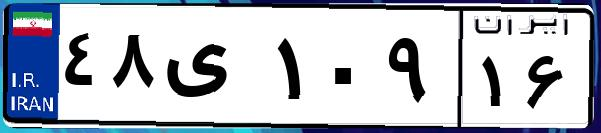0: (330, 28, 385, 110)
1: (270, 28, 330, 110), (475, 38, 525, 113)
4: (57, 26, 110, 100)
6: (525, 38, 570, 115)
8: (110, 28, 158, 98)
9: (385, 28, 445, 110)
ی: (158, 20, 270, 120)
